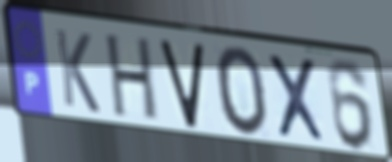6: (325, 55, 376, 155)
H: (104, 32, 160, 125)
K: (52, 26, 103, 117)
O: (213, 44, 271, 140)
V: (157, 38, 206, 131)
X: (264, 50, 329, 146)
